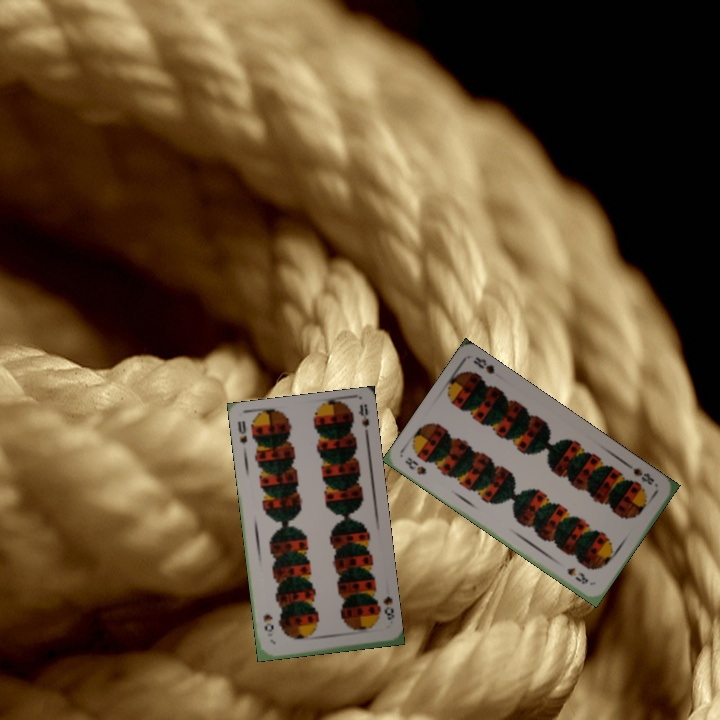S8: (624, 461, 657, 488), (401, 453, 430, 477), (379, 592, 397, 622), (234, 417, 250, 447)
